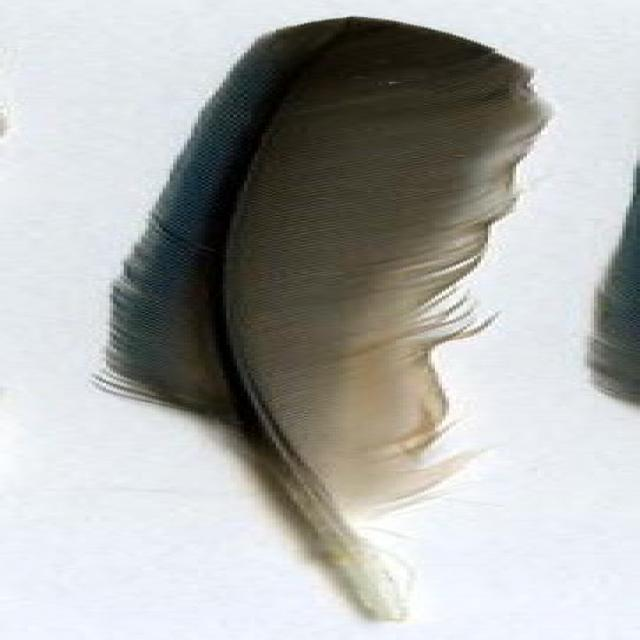feather: (47, 13, 566, 627)
